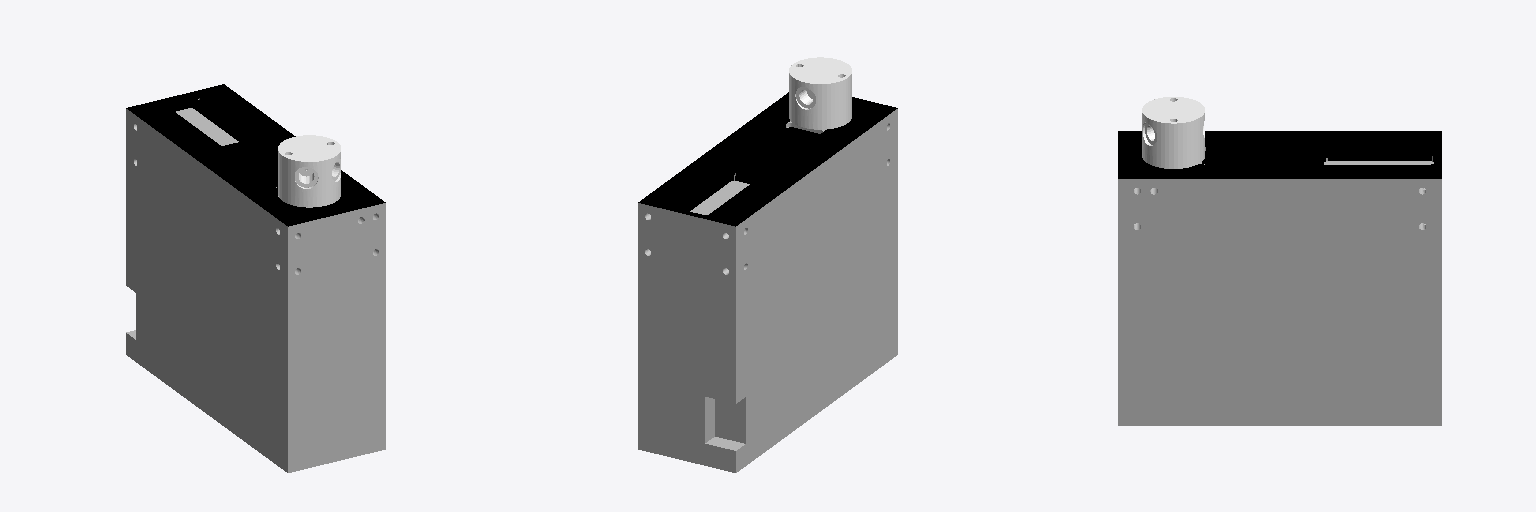
Rendered from pump_body.obj.
3 renders of one model, left to right at view 1: azimuth 30°, elevation 25°; view 2: azimuth 150°, elevation 25°; view 3: azimuth 270°, elevation 25°, orthographic.
Parts seen in each view (by area): view 1: pump_body; view 2: pump_body; view 3: pump_body.
Part boxes in pixels (left/top/right/bottom): pump_body: left=126, top=84, right=385, bottom=472; pump_body: left=638, top=57, right=897, bottom=472; pump_body: left=1118, top=97, right=1441, bottom=425.
Bounding box in the file's own units: 0.0444 × 0.1264 × 0.127.